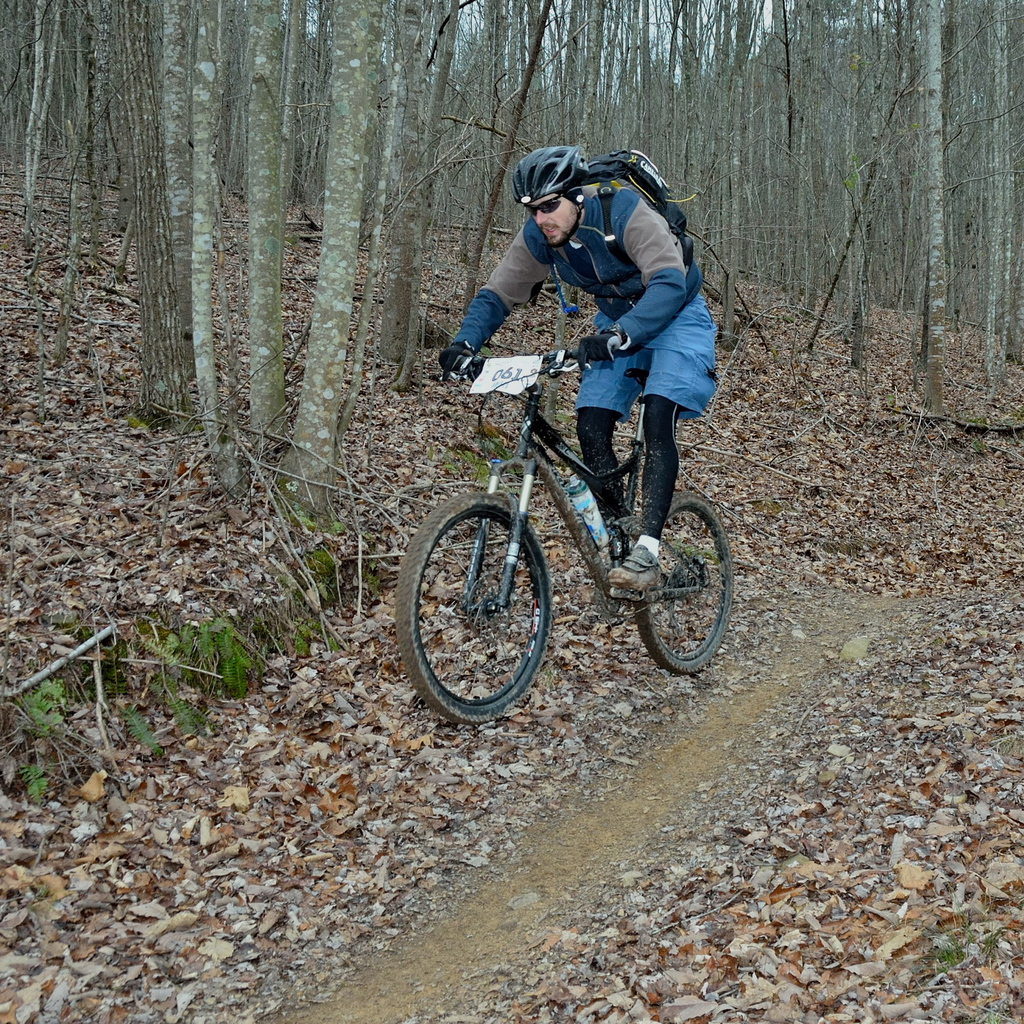Bike_toward: (370, 349, 791, 715)
